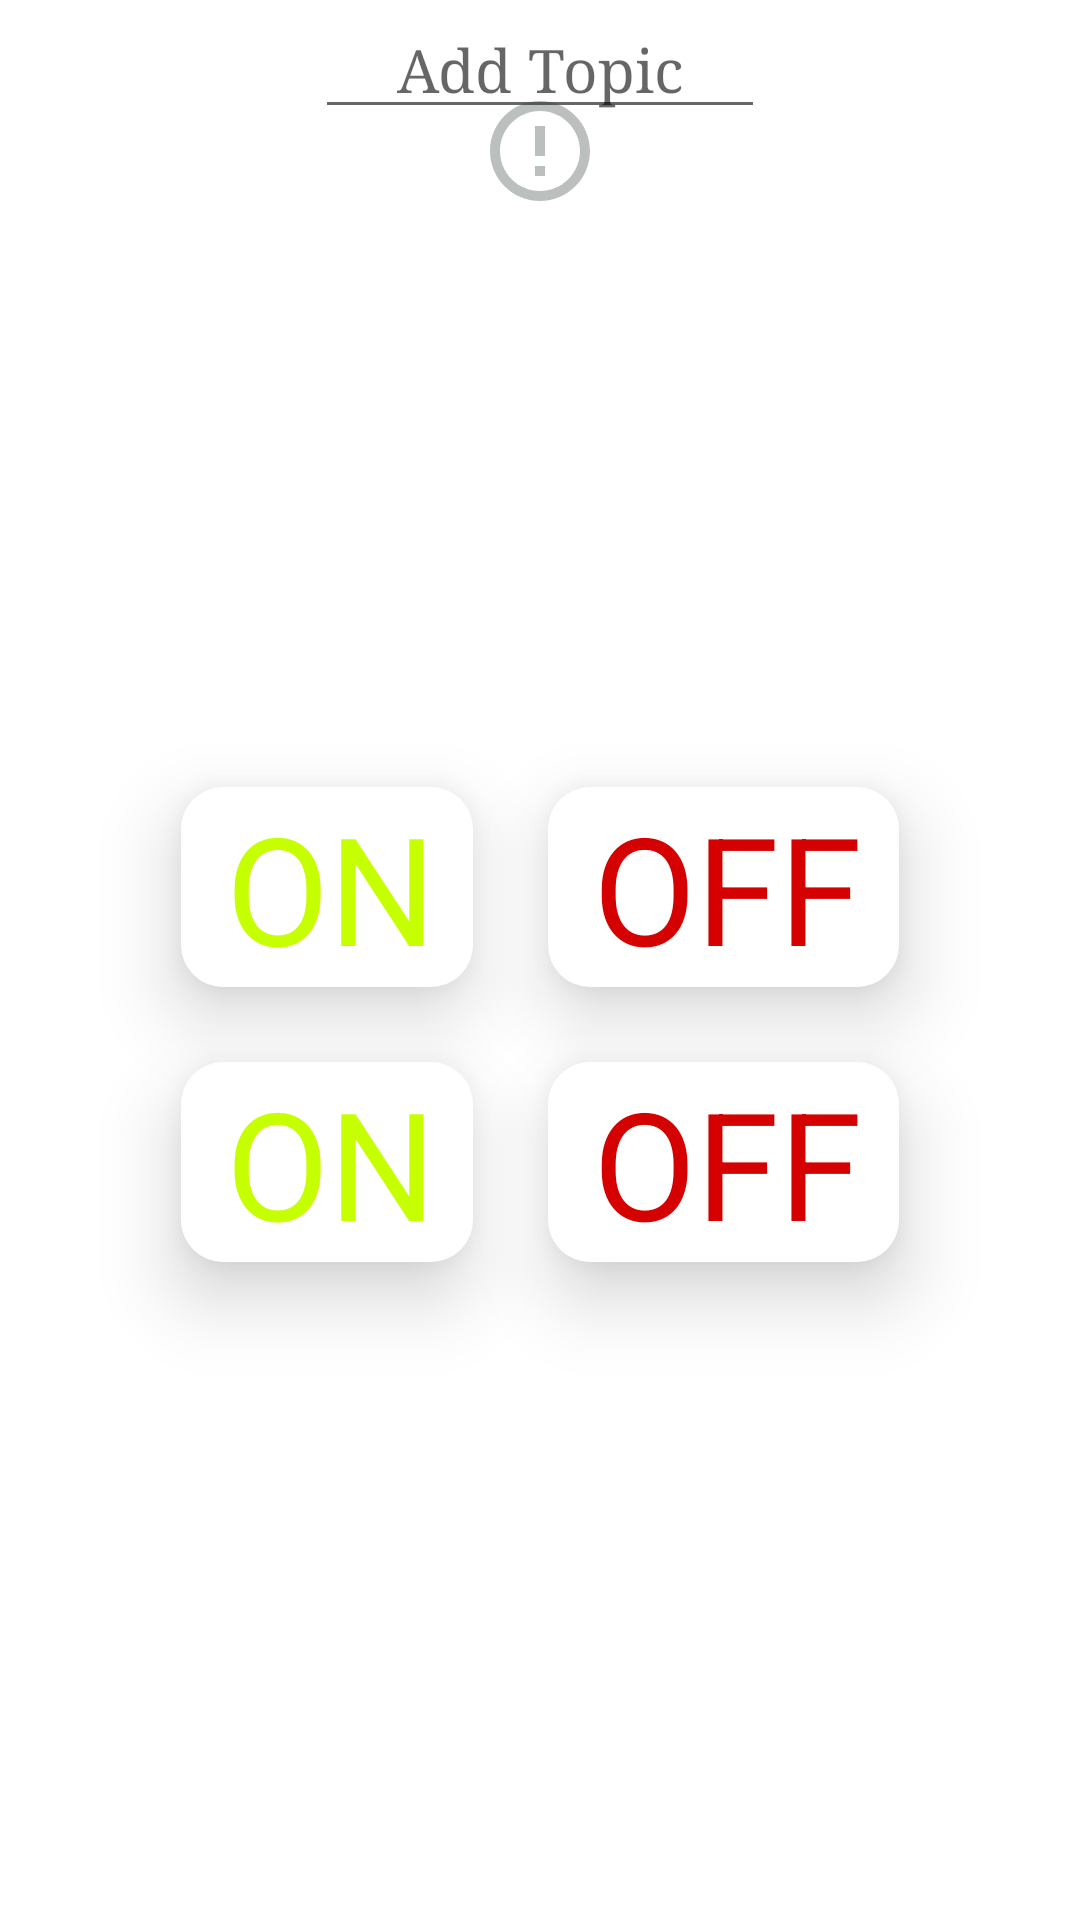

Screen size 1080 × 1920. Icon name, then its center in pixels as (x,y):
erroroutline: (540,146)
